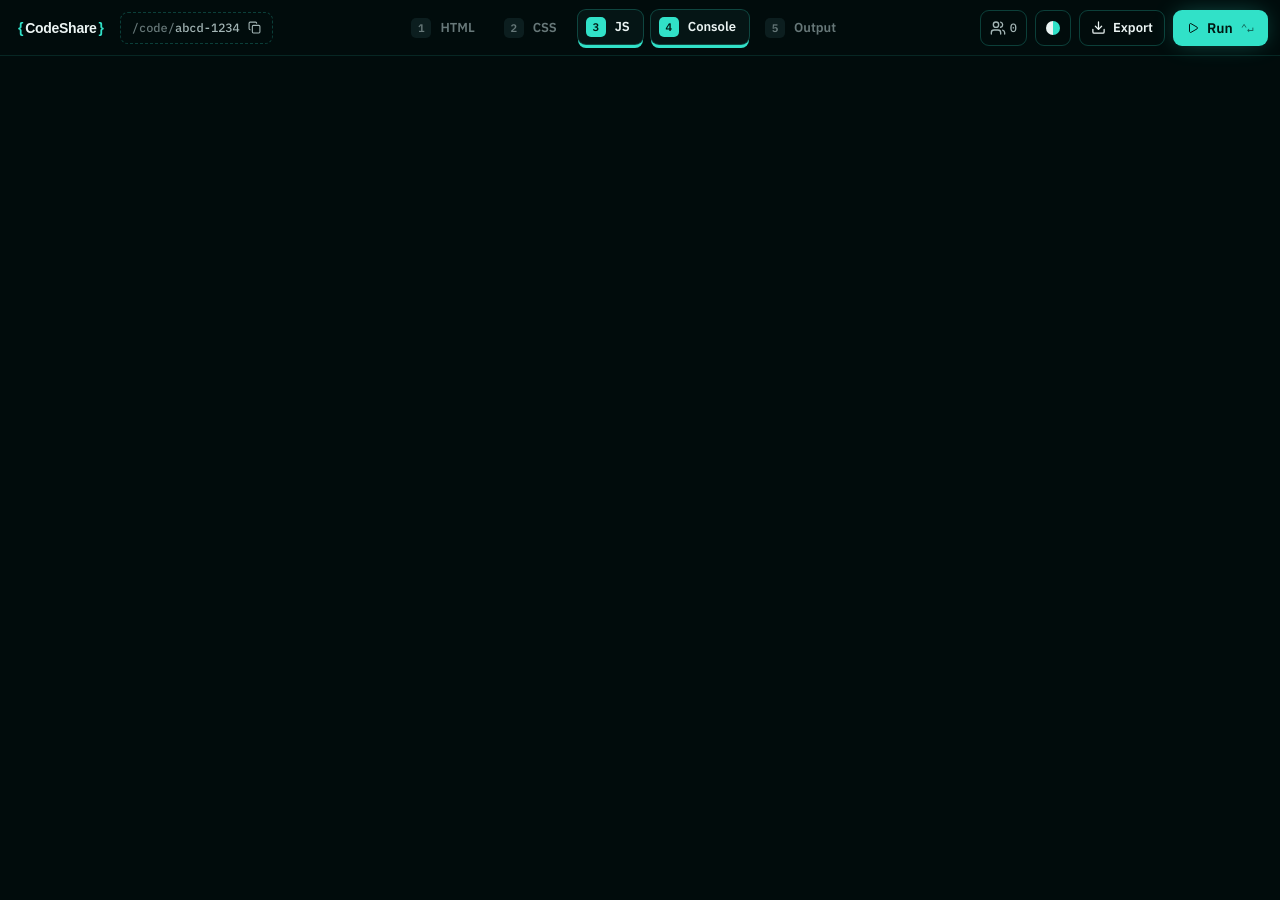
Test case: tells the user when copying the room link failed instead of claiming success
Click the button titled "copy room link" at (196, 28), box [120,12,273,44]
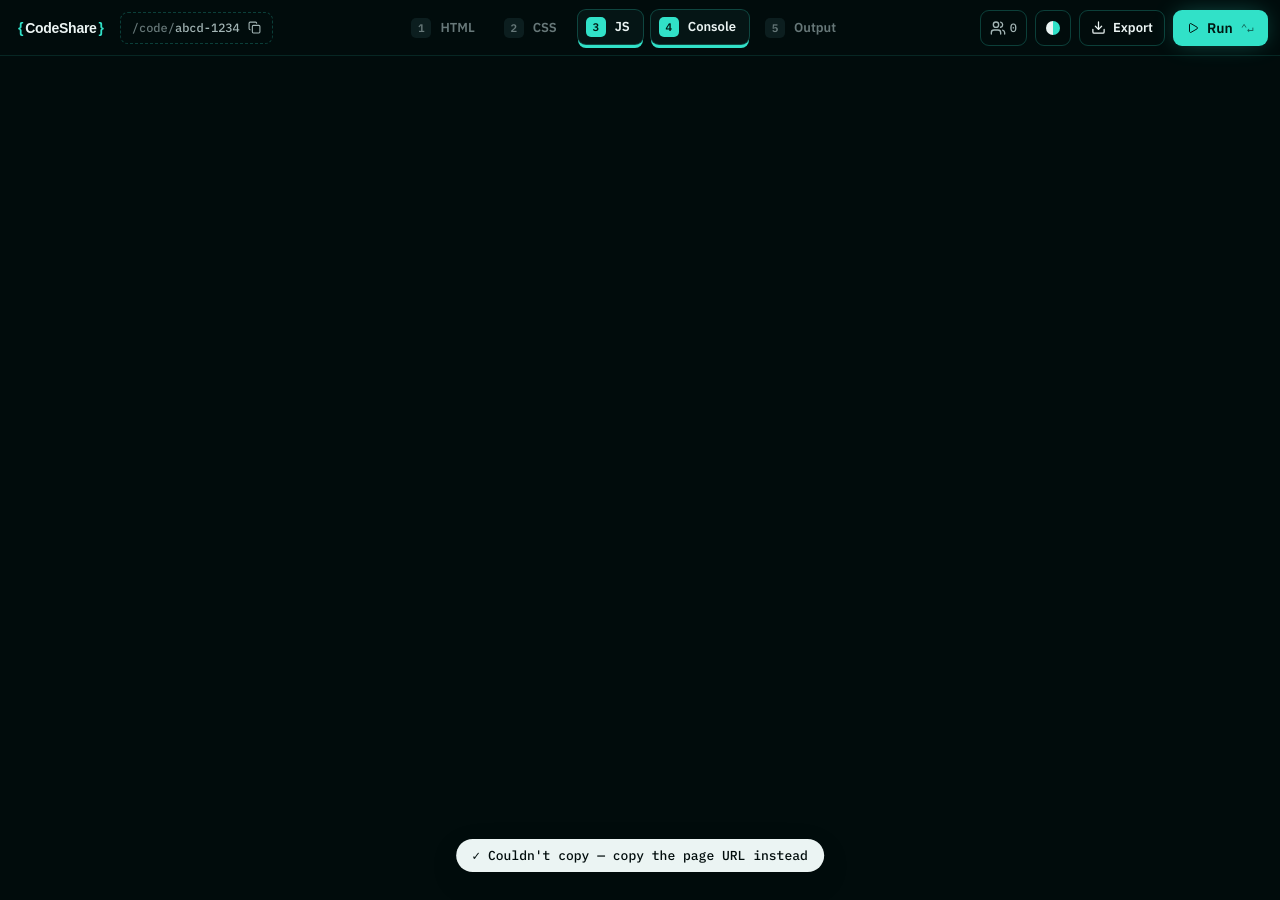
Now the text "Couldn't copy — copy the page URL instead" is shown, box [488,847,808,864]
